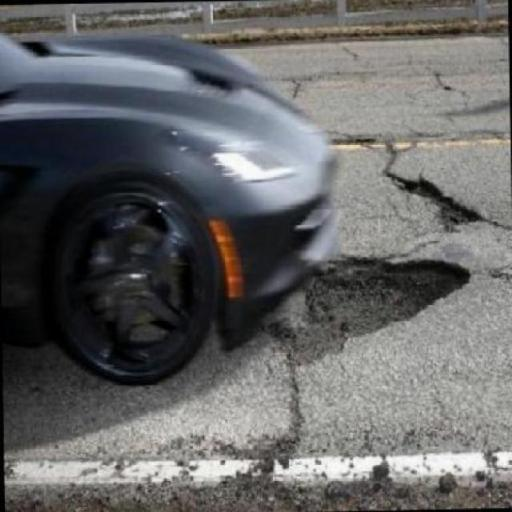pothole: (135, 196, 502, 512), (182, 89, 512, 290)
